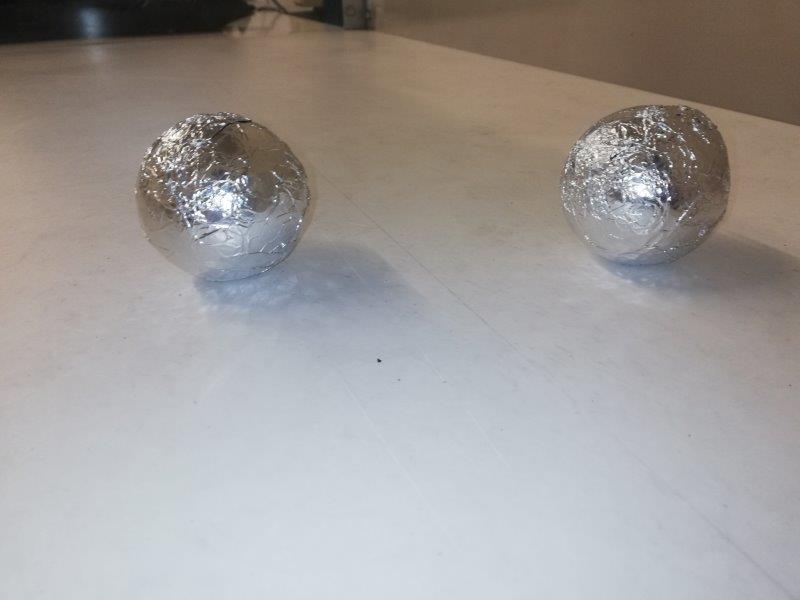bianca: (134, 112, 311, 282), (558, 104, 734, 267)
